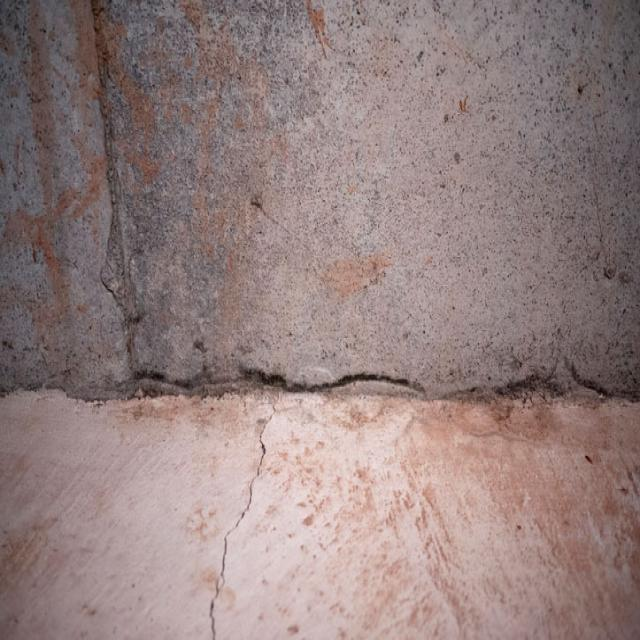Wall_Cracks: (4, 7, 634, 633)
